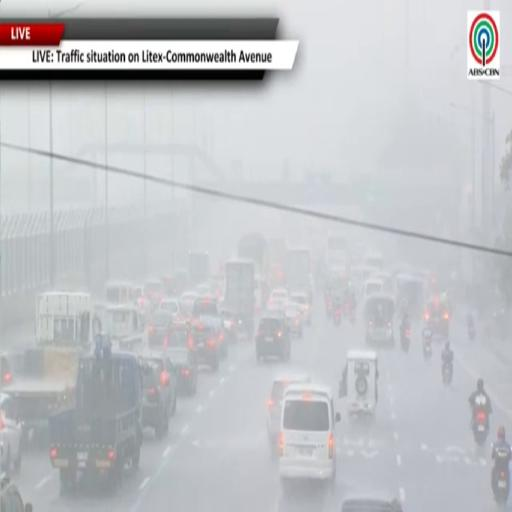car: (279, 383, 340, 494), (267, 374, 311, 453), (141, 350, 177, 439), (0, 393, 22, 473), (256, 312, 290, 361), (168, 340, 197, 395), (198, 315, 228, 359), (192, 324, 220, 371), (0, 475, 32, 511), (424, 300, 450, 339), (148, 311, 173, 348), (342, 498, 402, 511), (290, 293, 311, 325), (284, 303, 303, 338), (192, 294, 219, 318), (144, 280, 164, 309), (180, 291, 198, 318), (159, 298, 179, 322), (267, 288, 288, 308), (196, 283, 211, 295)
motorcycle: (493, 468, 509, 504), (474, 409, 488, 446), (423, 328, 432, 359), (442, 362, 452, 385), (401, 326, 410, 351), (423, 339, 432, 359), (326, 297, 334, 318), (333, 306, 341, 326), (468, 327, 476, 342), (344, 301, 350, 317), (350, 309, 355, 324)
truck: (49, 333, 142, 493), (3, 292, 94, 444), (223, 260, 254, 339), (101, 304, 145, 350), (237, 233, 269, 279), (285, 248, 312, 295), (268, 238, 286, 287), (326, 233, 348, 268), (188, 251, 209, 284)
